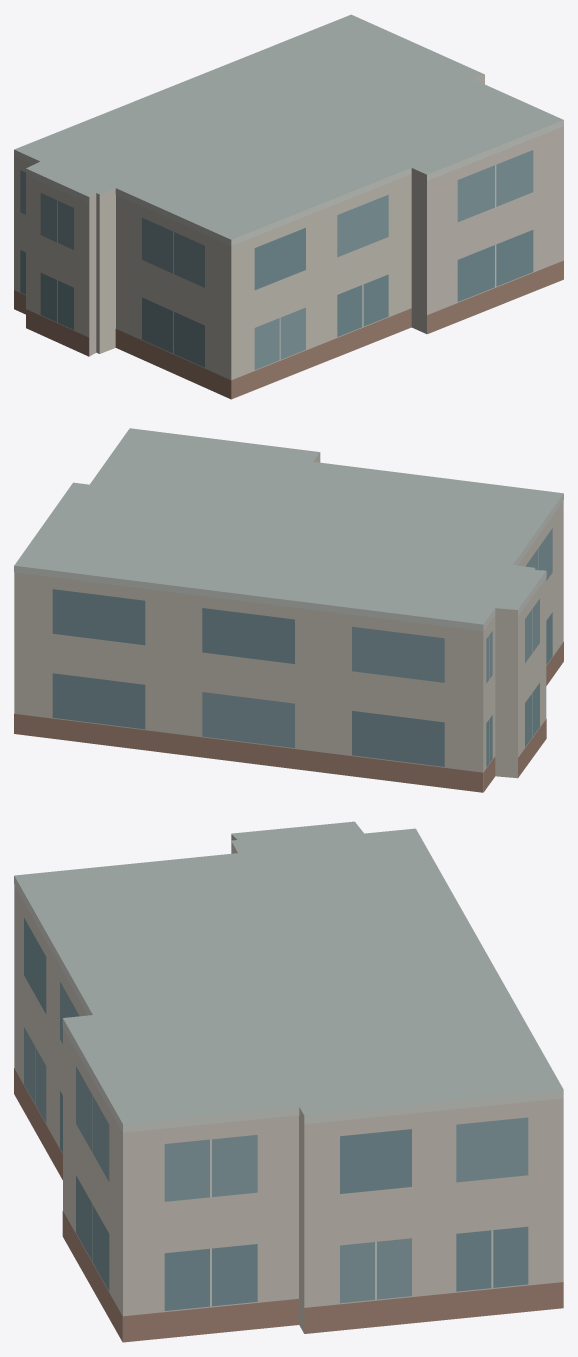
File: survey-upis-32983365.glb
3 views of the same model, one above another, from view 1: azimuth 30°, elevation 25°; view 2: azimuth 150°, elevation 25°; view 3: azimuth 270°, elevation 25° (orthographic). The views are drawn at different scales.
Parts seen in each view (by area): view 1: survey-upis-32983365.tmp; view 2: survey-upis-32983365.tmp; view 3: survey-upis-32983365.tmp.
Part boxes in pixels (bbox=[...]): survey-upis-32983365.tmp: bbox=[14, 14, 563, 399]; survey-upis-32983365.tmp: bbox=[14, 428, 563, 792]; survey-upis-32983365.tmp: bbox=[14, 821, 563, 1342].
Bounding box in the file's own units: 18.13 × 6.1 × 13.92.
